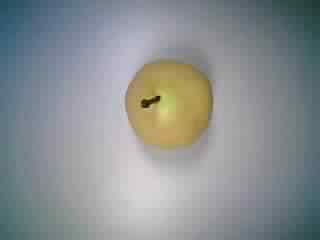pear: (114, 54, 219, 162)
